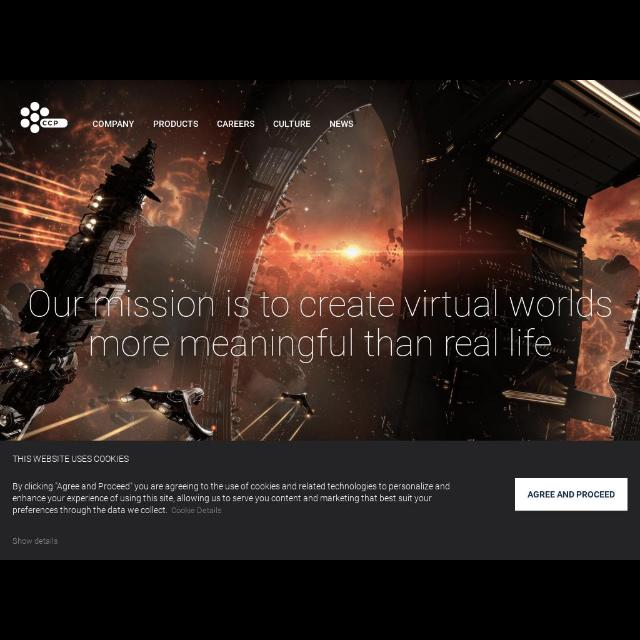backgroundimage: (2, 84, 640, 442)
iframe: (1, 442, 638, 558)
image: (20, 100, 68, 136)
text: (29, 286, 614, 356), (12, 482, 452, 516), (10, 454, 132, 464), (11, 536, 61, 546), (273, 118, 311, 130), (216, 120, 256, 130), (92, 119, 136, 128), (153, 120, 201, 128), (328, 119, 354, 129)
textbutton: (514, 477, 630, 511)
toolbar: (18, 100, 362, 138)
